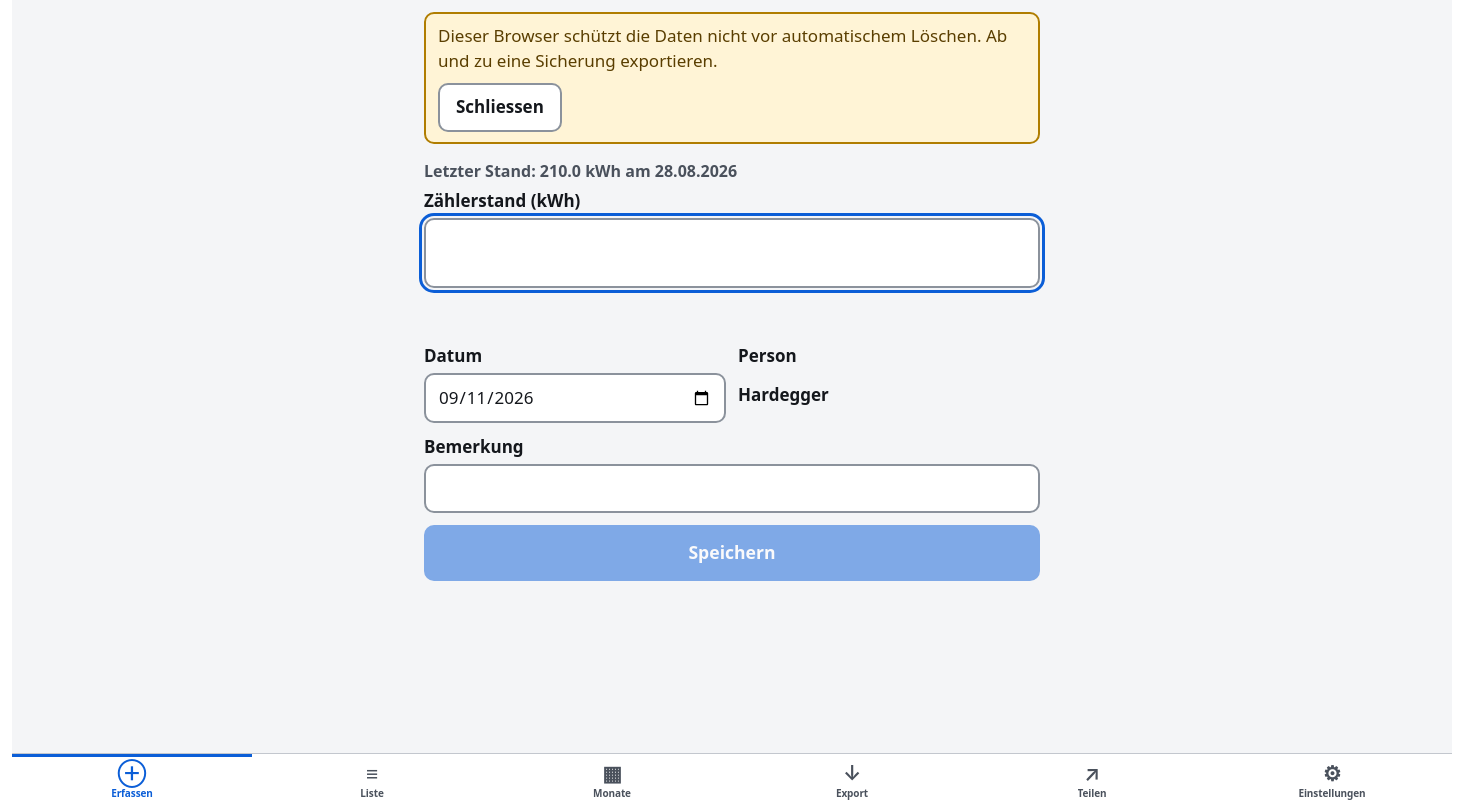
Scenario: saving (FR-1.4, AC-3) › persists what it displayed
The width and height of the screenshot is (1464, 810).
Type "252,5" into the field labelled "Zählerstand (kWh)" at (732, 253), box [424,218,1040,288]
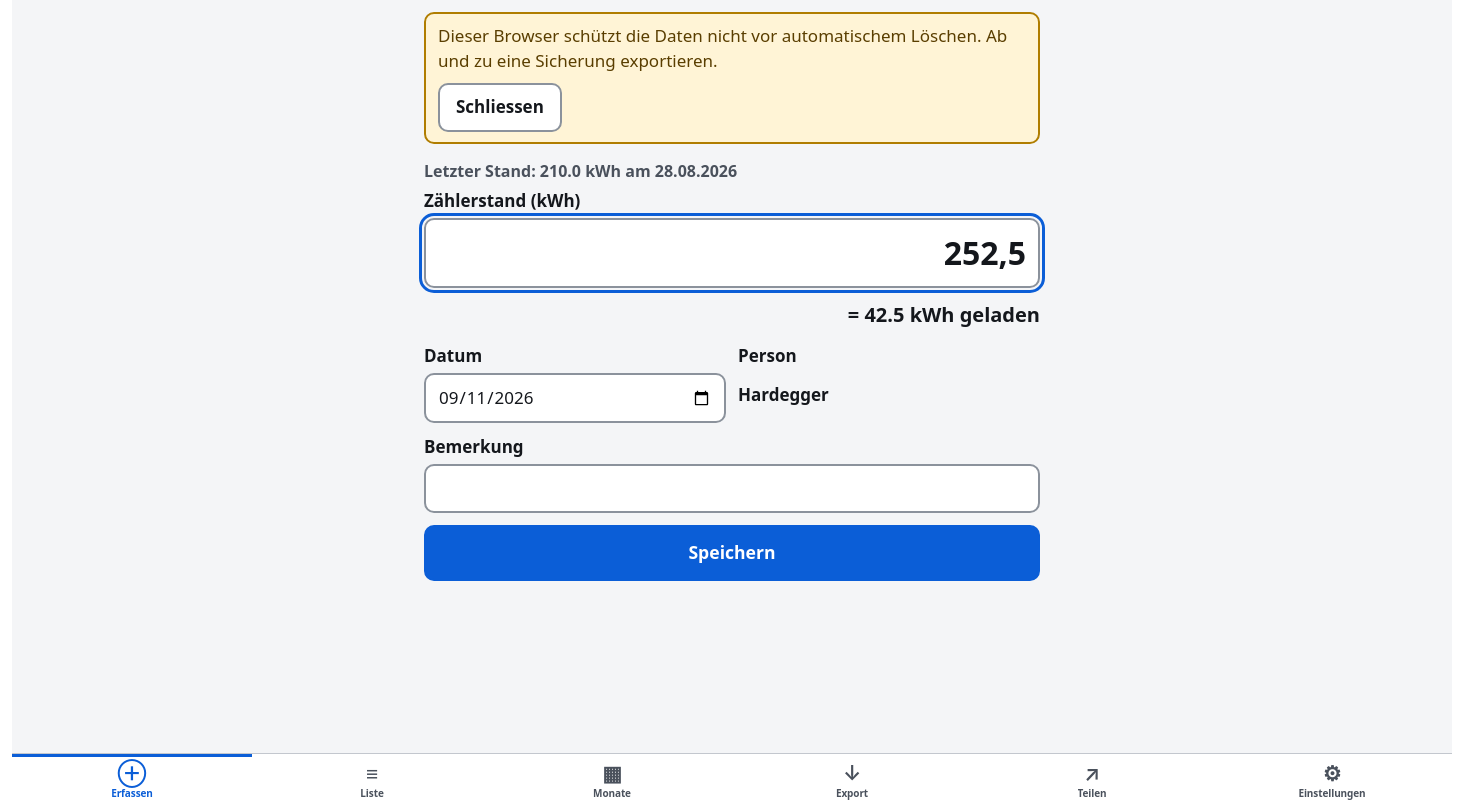
Click the button "Speichern" at (732, 553), box [424,525,1040,581]
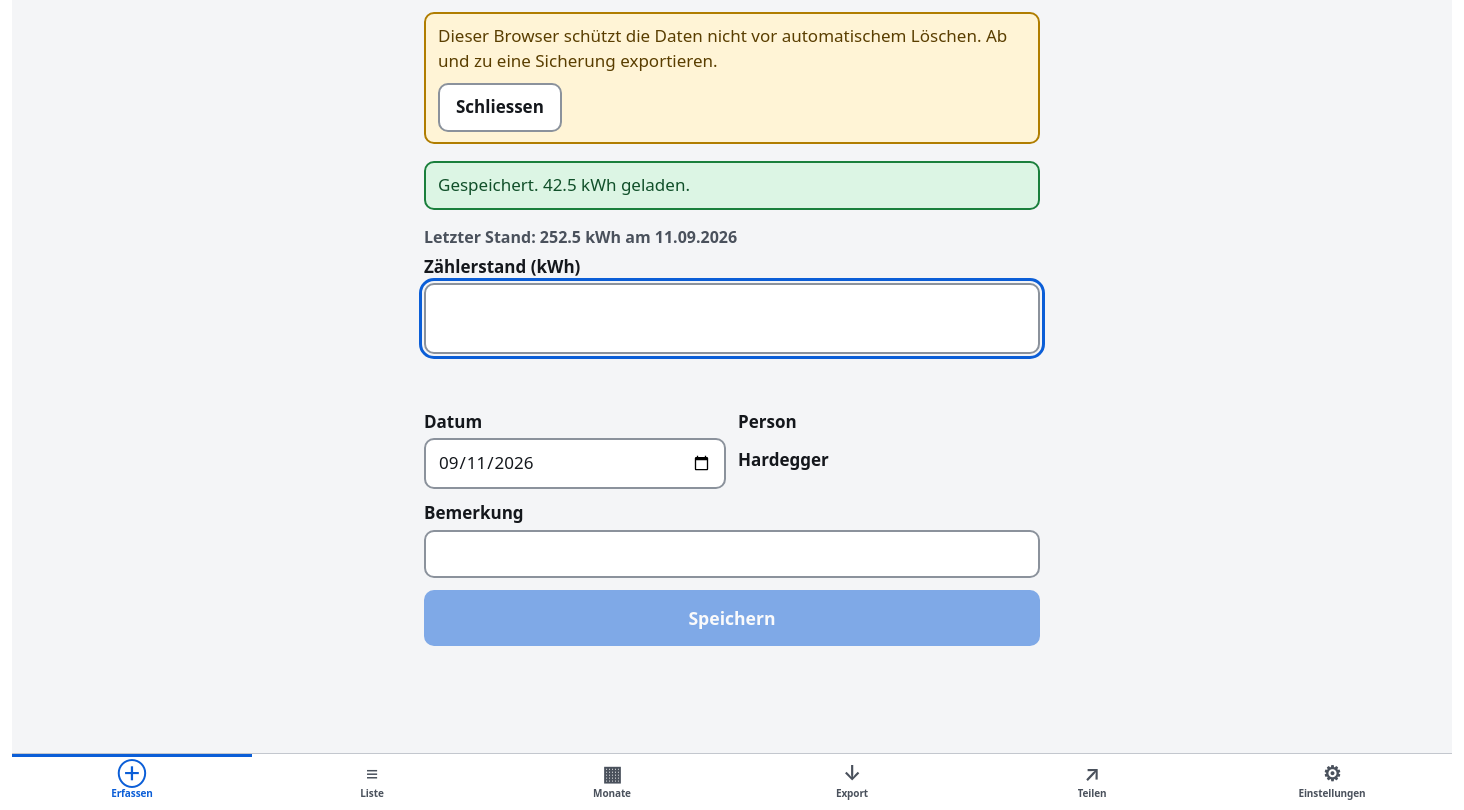
Check: the text "Hardegger" is shown, box [738,448,829,471]
Check: the text "Gespeichert. 42.5 kWh geladen." is shown, box [424,161,1040,210]
